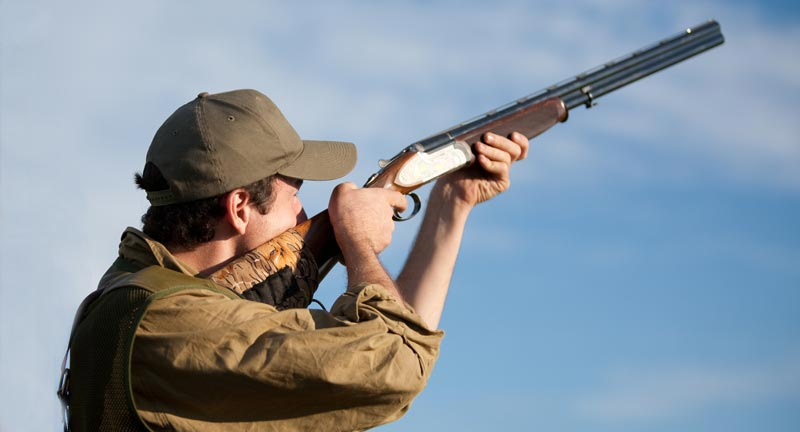weapon: (228, 1, 716, 303)
